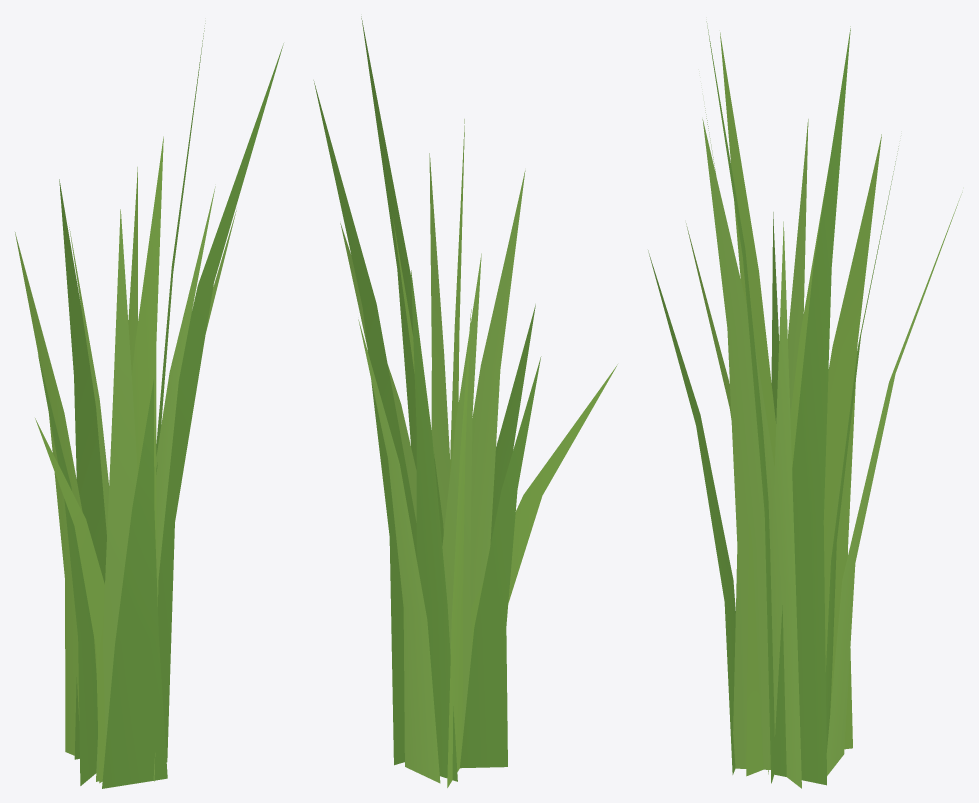
Rendered from meadow_grass.glb.
3 renders of one model, left to right at view 1: azimuth 30°, elevation 25°; view 2: azimuth 150°, elevation 25°; view 3: azimuth 270°, elevation 25°, orthographic. The views are drawn at different scales.
Parts seen in each view (by area): view 1: body; view 2: body; view 3: body.
Boxes of the visible parts, x1=… form: body: x1=15, y1=23, x2=283, y2=788; body: x1=313, y1=16, x2=617, y2=787; body: x1=648, y1=21, x2=962, y2=788.
Bounding box in the file's own units: 0.3318 × 0.8826 × 0.31.
